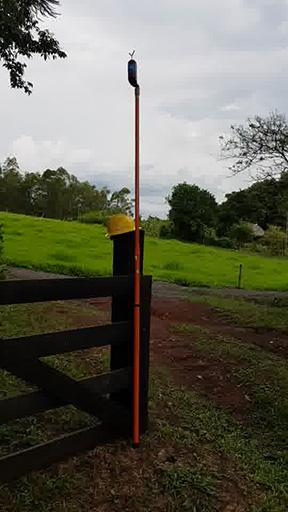Detector_Tensao_Contato: (126, 49, 139, 87)
Vara_Manobra: (131, 87, 141, 442)
